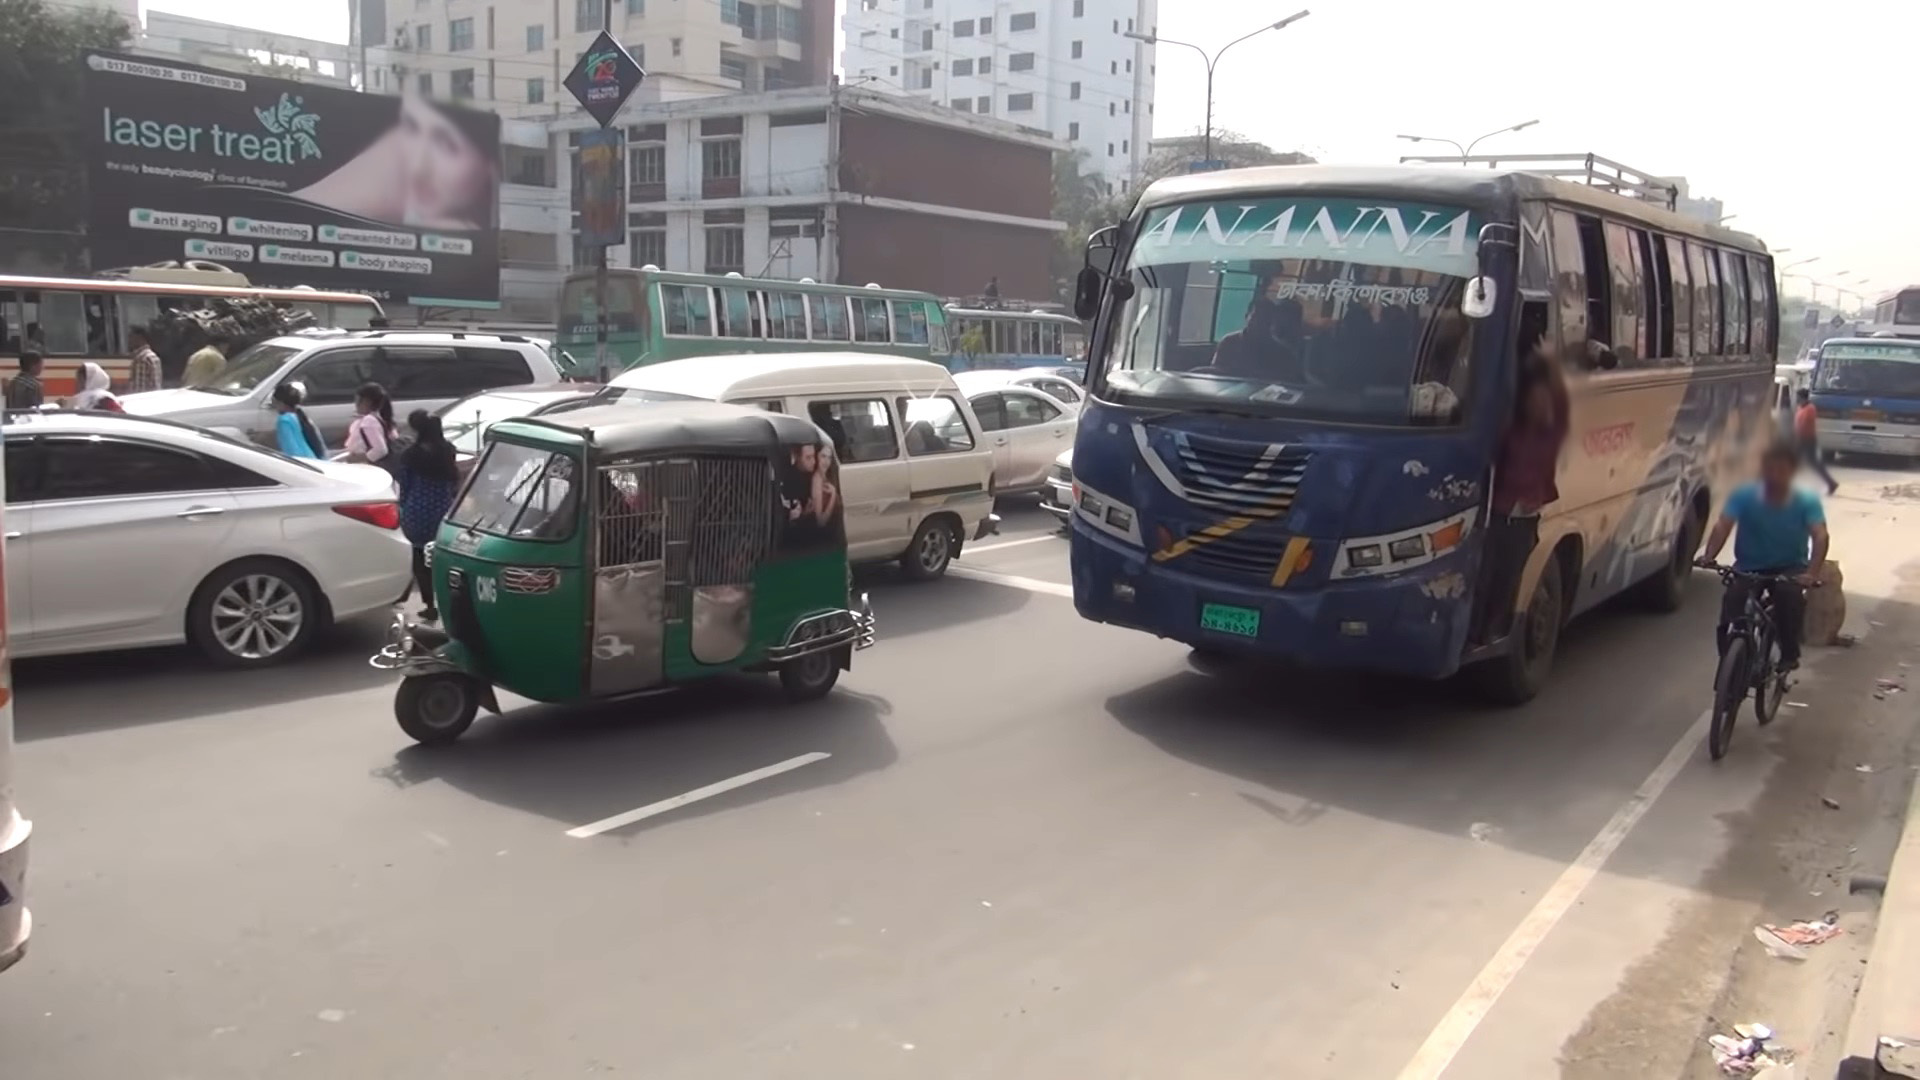bicycle: (1692, 551, 1828, 761)
bus: (1067, 152, 1780, 703), (1, 264, 392, 402), (559, 262, 951, 389), (1803, 326, 1920, 465), (942, 299, 1091, 375)
car: (1, 407, 413, 667), (597, 349, 1001, 574), (113, 326, 580, 447), (324, 378, 601, 480), (967, 384, 1077, 501), (953, 371, 1088, 409), (1767, 367, 1815, 440)
cng: (365, 401, 878, 745)
